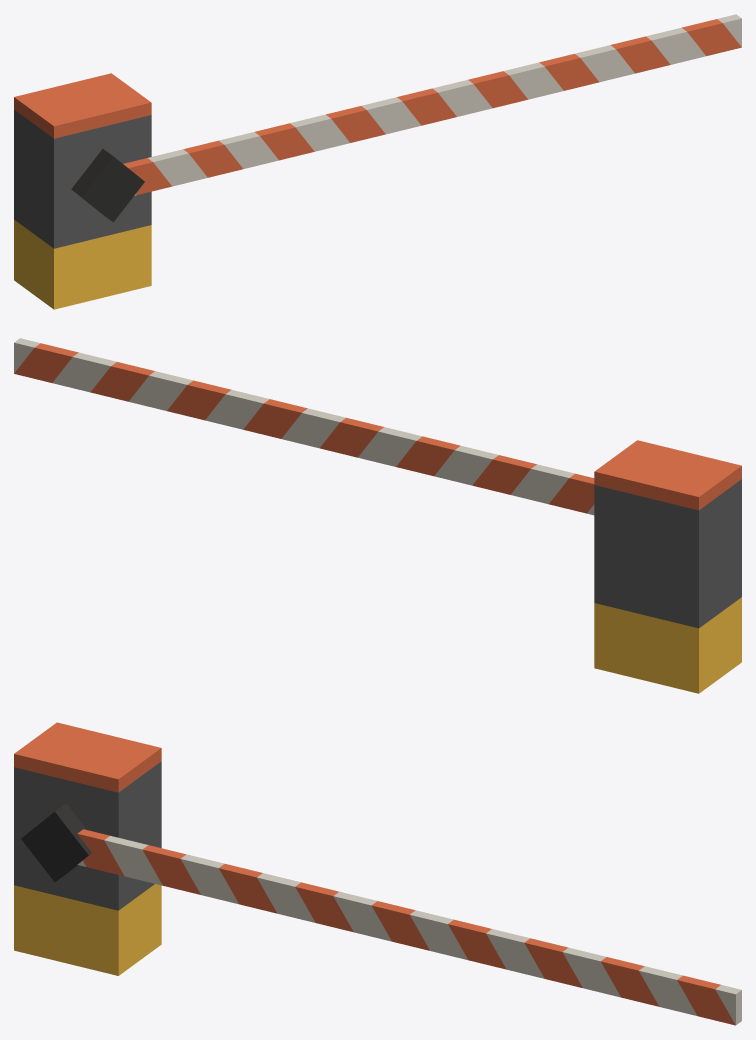
Rendered from Barrier.fbx.
3 views of the same model, one above another, from view 1: azimuth 30°, elevation 25°; view 2: azimuth 150°, elevation 25°; view 3: azimuth 330°, elevation 25° (orthographic). The views are drawn at different scales.
Parts seen in each view (by area): view 1: Barrier; view 2: Barrier; view 3: Barrier.
Part boxes in pixels (left/top/right/bottom): Barrier: left=14, top=14, right=741, bottom=309; Barrier: left=14, top=338, right=741, bottom=693; Barrier: left=14, top=722, right=741, bottom=1025.
Size of the model in its own units: 588 by 152 by 75.99.
1 material, 1 textured.
